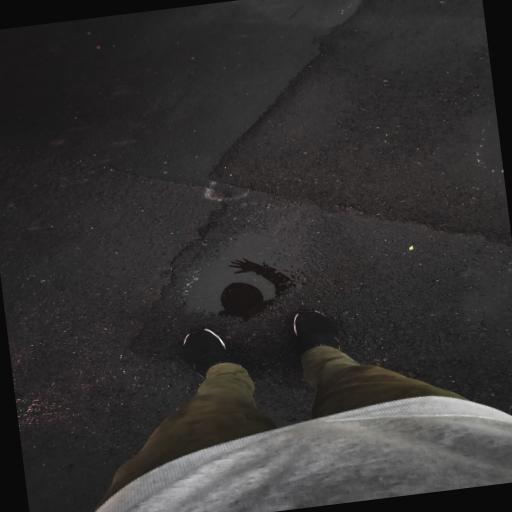shoe: (182, 330, 236, 377), (293, 311, 339, 355)
